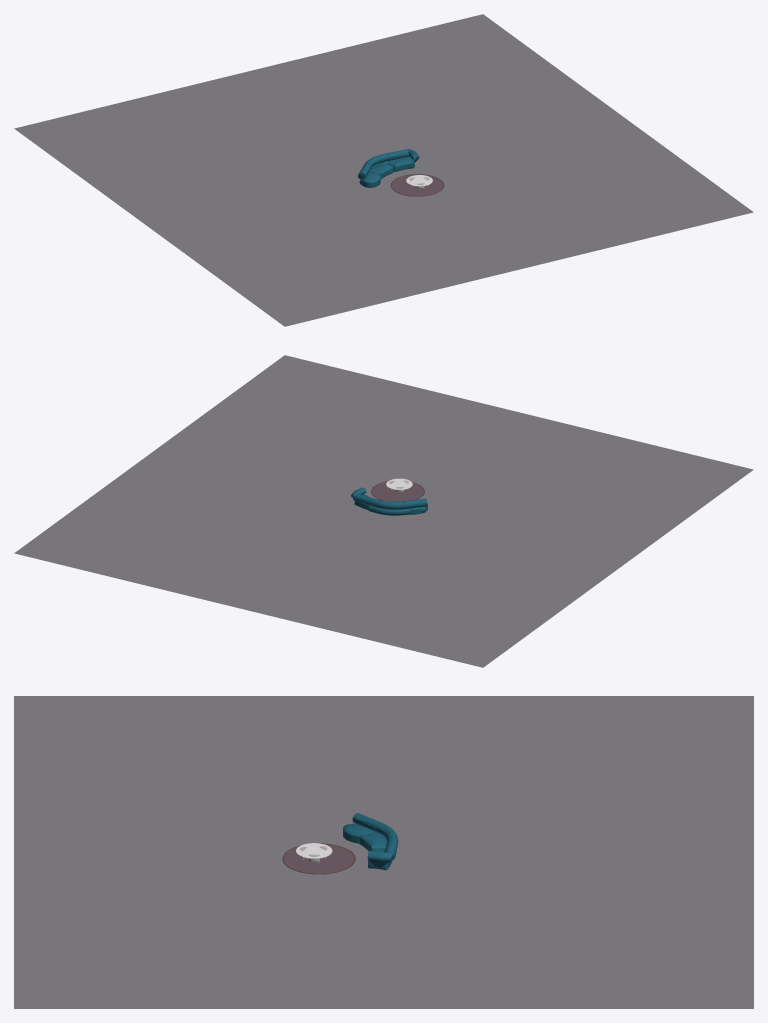
The model's file is sofa7.glb.
3 views of the same model, one above another, from view 1: azimuth 30°, elevation 25°; view 2: azimuth 150°, elevation 25°; view 3: azimuth 270°, elevation 25° (orthographic). The views are drawn at different scales.
Parts seen in each view (by area): view 1: Cylinder; view 2: Cylinder; view 3: Cylinder.
Boxes of the visible parts, x1=… form: Cylinder: x1=14, y1=14, x2=753, y2=326; Cylinder: x1=14, y1=355, x2=753, y2=667; Cylinder: x1=14, y1=696, x2=753, y2=1008.
Size of the model in its own units: 74.54 by 2.29 by 74.54.
2 materials, 2 textured.
